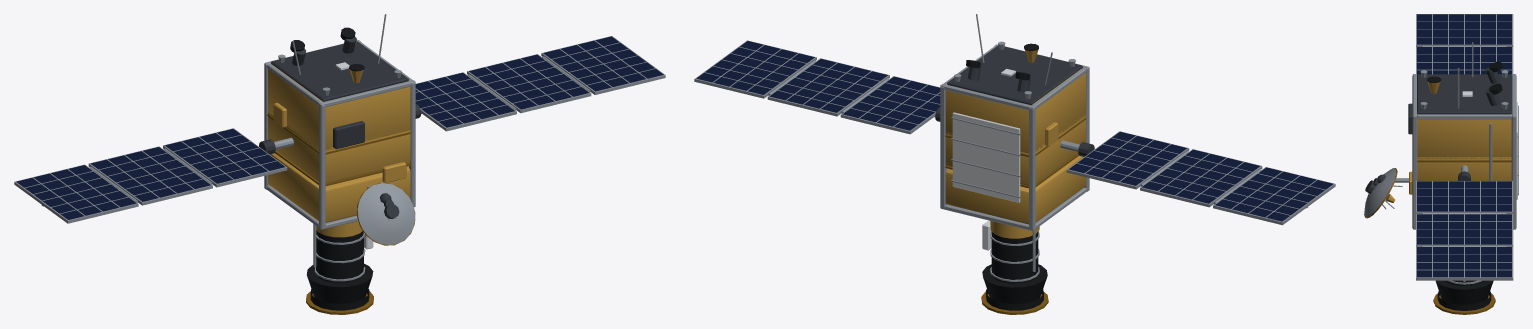
File: satellite.glb
The picture shows the model from 3 angles, left to right: view 1: azimuth 30°, elevation 25°; view 2: azimuth 150°, elevation 25°; view 3: azimuth 270°, elevation 25°; orthographic projection. The views are drawn at different scales.
Visible parts, largest first — view 1: bus, solar_l, solar_r, payload, antenna; view 2: bus, solar_l, solar_r, payload; view 3: bus, solar_r, solar_l, payload, antenna.
Boxes of the visible parts, box(x1,y1,x2,y2) form: bus: box(264, 14, 415, 229); solar_l: box(14, 128, 293, 223); solar_r: box(415, 36, 665, 131); payload: box(306, 221, 373, 314); antenna: box(357, 183, 415, 245); bus: box(940, 14, 1089, 231); solar_l: box(1060, 131, 1335, 225); solar_r: box(694, 40, 940, 134); payload: box(981, 220, 1048, 314); bus: box(1408, 42, 1518, 229); solar_r: box(1416, 165, 1513, 281); solar_l: box(1416, 14, 1513, 74); payload: box(1433, 280, 1495, 314); antenna: box(1364, 168, 1408, 218).
Size of the model in its own units: 12.34 by 5.49 by 3.06.
